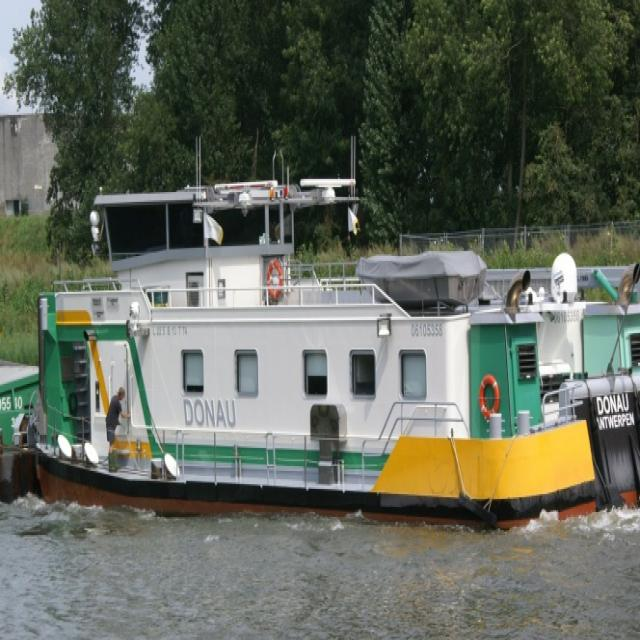tugboat: (29, 134, 640, 541)
